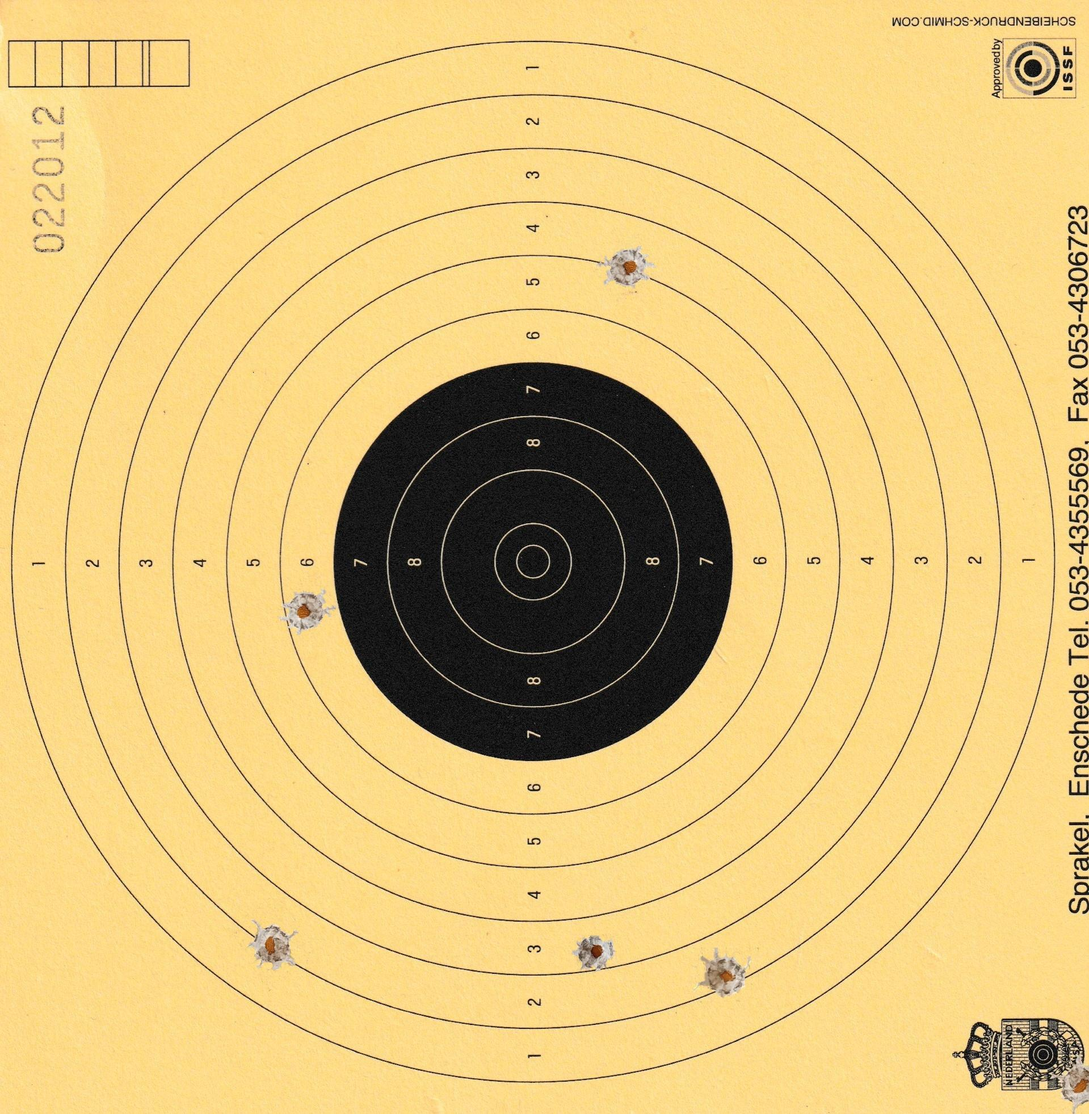hole: (247, 919, 309, 968), (279, 591, 343, 634), (701, 950, 756, 998), (605, 241, 651, 295), (571, 932, 620, 976), (1061, 1054, 1089, 1114)
